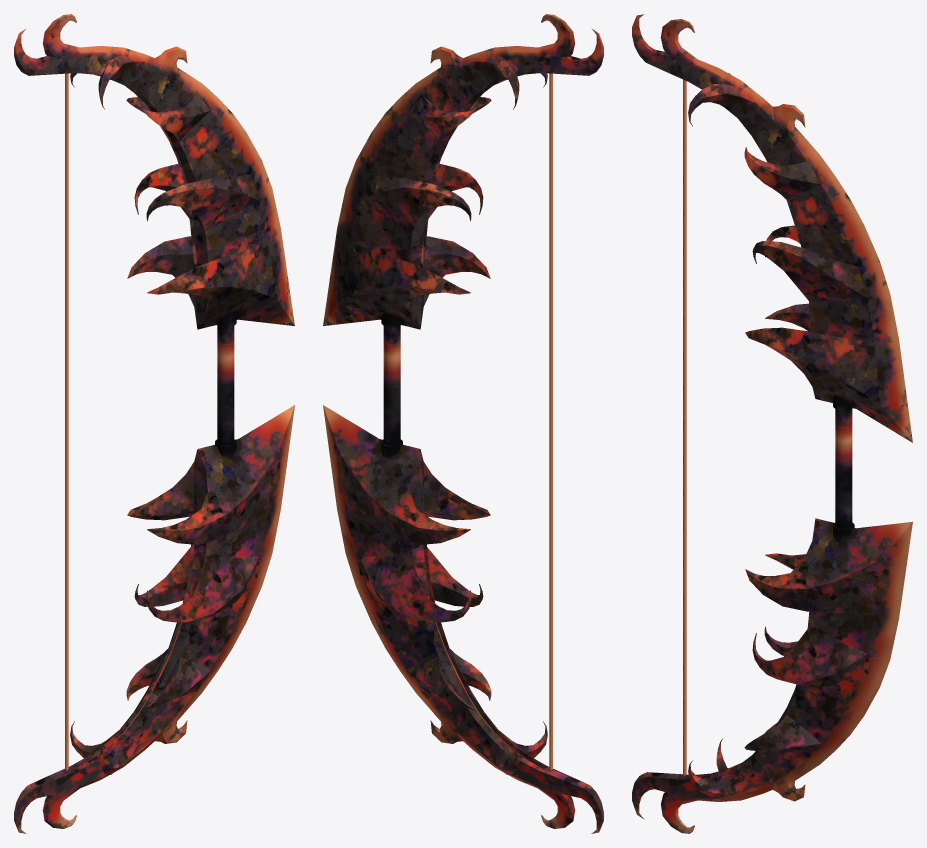
File: magmabow.fbx
3 renders of one model, left to right at view 1: azimuth 30°, elevation 25°; view 2: azimuth 150°, elevation 25°; view 3: azimuth 330°, elevation 25°, orthographic.
Parts seen in each view (by area): view 1: pCube2, pCube1, pCylinder2, pCylinder1; view 2: pCube2, pCube1, pCylinder2, pCylinder1; view 3: pCube1, pCube2, pCylinder2, pCylinder1.
Part boxes in pixels (box(x1,y1,x2,y2)): pCube2: box(14, 405, 294, 833); pCube1: box(14, 14, 294, 329); pCylinder2: box(65, 73, 68, 770); pCylinder1: box(215, 313, 236, 459); pCube2: box(323, 405, 603, 833); pCube1: box(323, 14, 603, 329); pCylinder2: box(549, 73, 552, 770); pCylinder1: box(381, 313, 402, 459); pCube1: box(632, 14, 912, 442); pCube2: box(632, 518, 912, 833); pCylinder2: box(683, 79, 686, 775); pCylinder1: box(833, 396, 854, 542).
Size of the model in its own units: 37.56 by 104 by 9.09.
